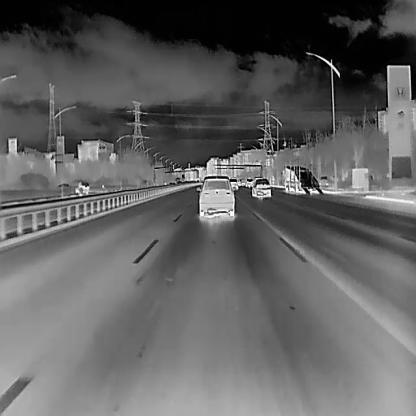car: (195, 174, 234, 217), (280, 163, 322, 195), (250, 177, 271, 198), (74, 179, 89, 196), (245, 176, 254, 188), (229, 177, 237, 190)
